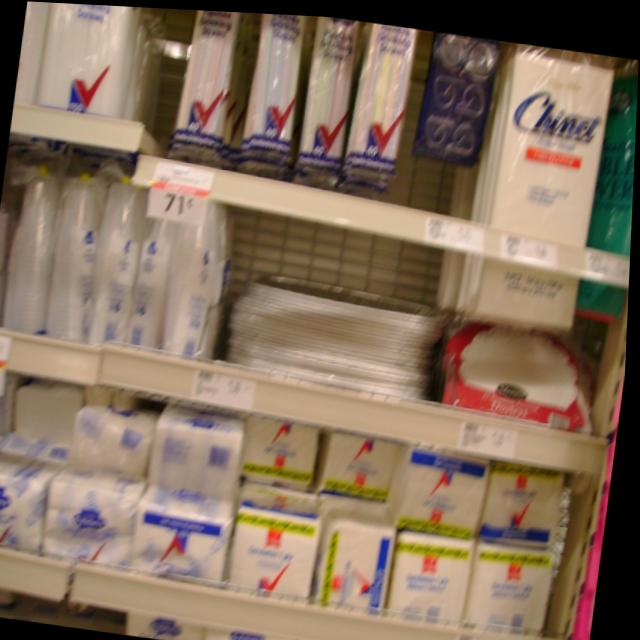q293: (134, 494, 237, 592)
